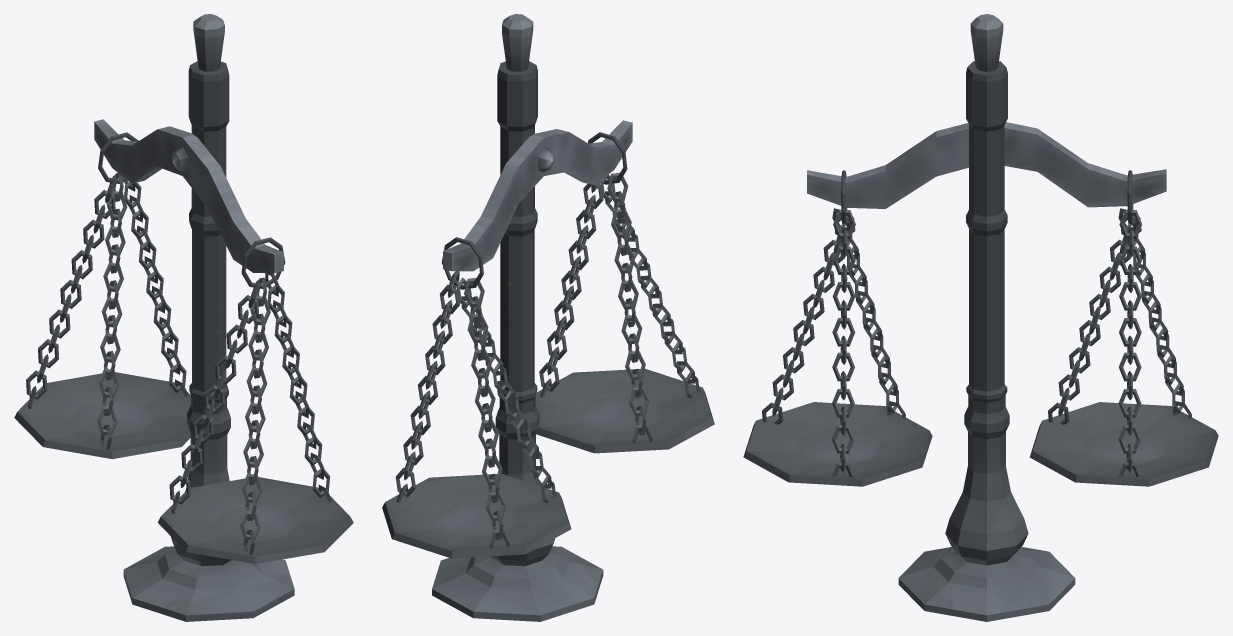
The model's file is Balança.fbx.
3 renders of one model, left to right at view 1: azimuth 30°, elevation 25°; view 2: azimuth 150°, elevation 25°; view 3: azimuth 270°, elevation 25°, orthographic.
Parts seen in each view (by area): view 1: Balança; view 2: Balança; view 3: Balança.
Part boxes in pixels (x1,y1,x2,y2): Balança: [14, 14, 353, 621]; Balança: [382, 14, 714, 621]; Balança: [743, 14, 1218, 621].
Size of the model in its own units: 13.88 by 40.32 by 30.64.
1 material, 1 textured.
